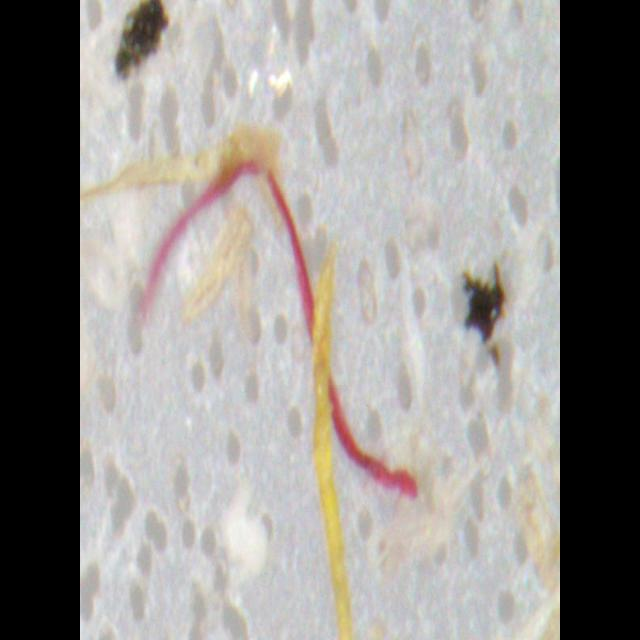Fibre: (82, 119, 420, 636)
